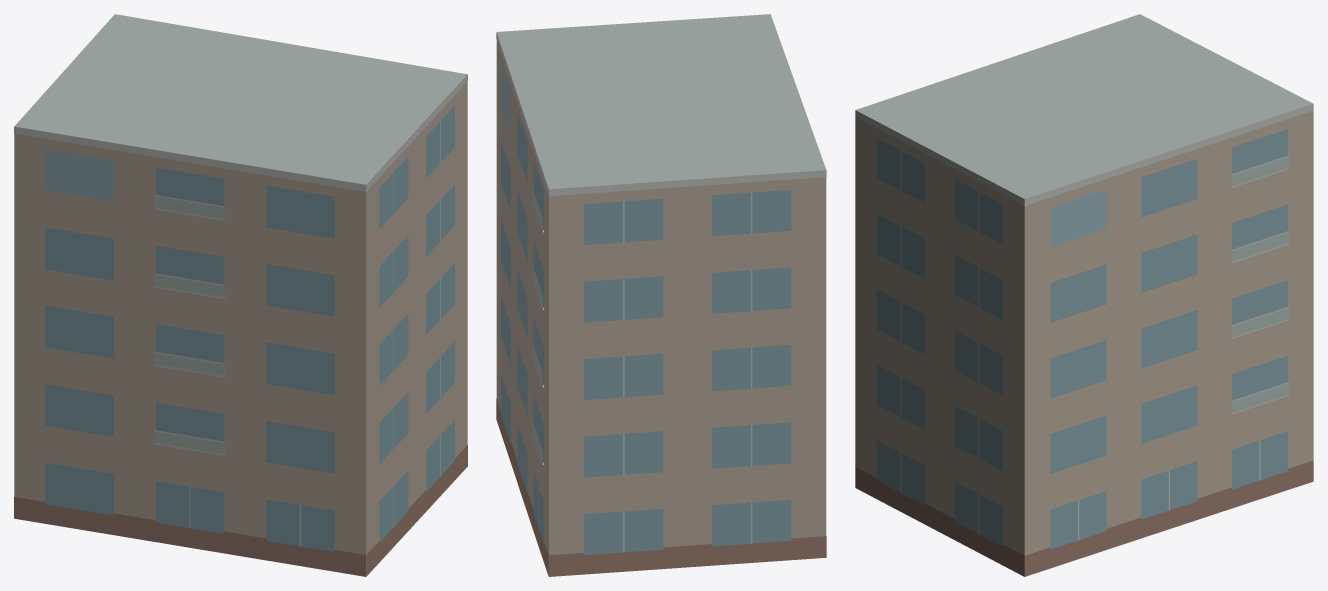
Rendered from survey-upis-32749253.glb.
3 views of the same model, side by side, from view 1: azimuth 30°, elevation 25°; view 2: azimuth 150°, elevation 25°; view 3: azimuth 270°, elevation 25° (orthographic). The views are drawn at different scales.
Parts seen in each view (by area): view 1: survey-upis-32749253.tmp; view 2: survey-upis-32749253.tmp; view 3: survey-upis-32749253.tmp.
Boxes of the visible parts, left/top/right/bottom form: survey-upis-32749253.tmp: left=14, top=14, right=467, bottom=576; survey-upis-32749253.tmp: left=496, top=14, right=826, bottom=576; survey-upis-32749253.tmp: left=855, top=14, right=1313, bottom=576.
Size of the model in its own units: 14.3 by 13.6 by 14.96.
